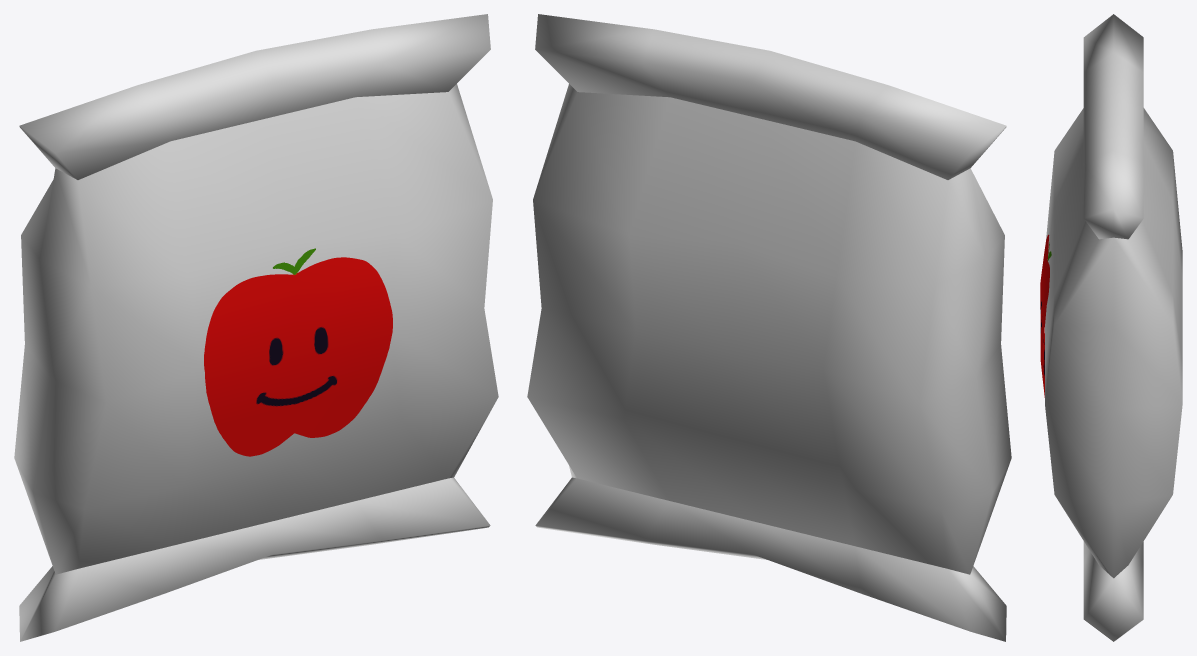
File: appleSlices.fbx
The picture shows the model from 3 angles, left to right: view 1: azimuth 30°, elevation 25°; view 2: azimuth 150°, elevation 25°; view 3: azimuth 270°, elevation 25°; orthographic projection. The views are drawn at different scales.
Parts seen in each view (by area): view 1: appleSliceBag, appleLogo; view 2: appleSliceBag; view 3: appleSliceBag, appleLogo.
Boxes of the visible parts, x1,y1,x2,y2 form: appleSliceBag: (14, 14, 498, 641); appleLogo: (204, 248, 392, 456); appleSliceBag: (527, 14, 1011, 641); appleSliceBag: (1045, 14, 1182, 641); appleLogo: (1040, 234, 1051, 397).
Size of the model in its own units: 99.83 by 108 by 31.12.
